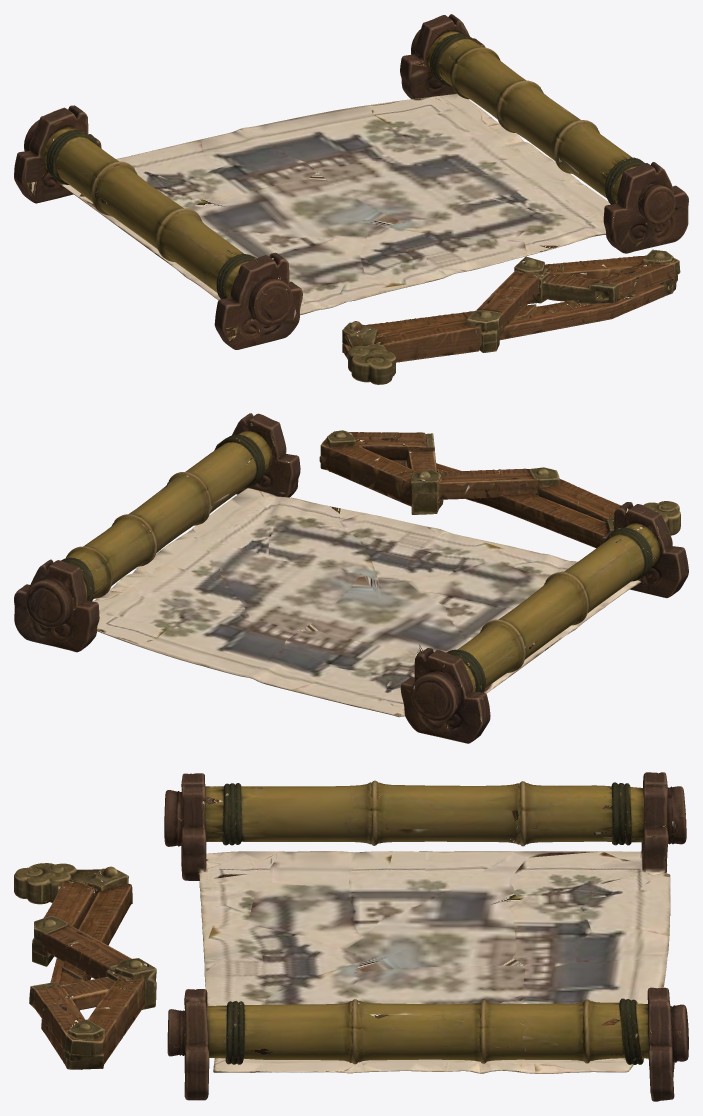
Rendered from architect.glb.
3 renders of one model, top to bottom at view 1: azimuth 30°, elevation 25°; view 2: azimuth 150°, elevation 25°; view 3: azimuth 270°, elevation 25°, orthographic. The views are drawn at different scales.
Bounding box in the file's own units: 1.75 × 0.2873 × 1.9.
Materials: 1 (1 with a texture image).
